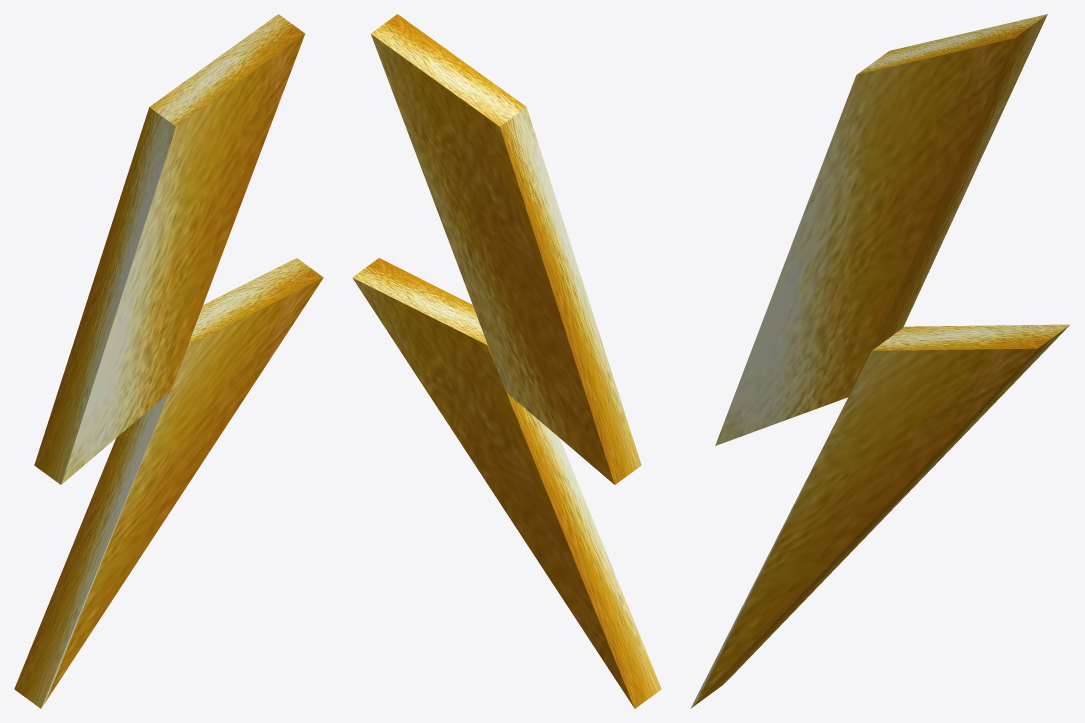
Rendered from Rayo.fbx.
3 renders of one model, left to right at view 1: azimuth 30°, elevation 25°; view 2: azimuth 150°, elevation 25°; view 3: azimuth 330°, elevation 25°, orthographic. The views are drawn at different scales.
Visible parts, largest first — view 1: Cube, Cube.001; view 2: Cube, Cube.001; view 3: Cube, Cube.001.
Boxes of the visible parts, left/top/right/bottom form: Cube: left=34, top=14, right=304, bottom=484; Cube.001: left=14, top=258, right=323, bottom=708; Cube: left=371, top=14, right=641, bottom=484; Cube.001: left=352, top=258, right=661, bottom=708; Cube: left=715, top=14, right=1047, bottom=445; Cube.001: left=690, top=324, right=1069, bottom=708.
Bounding box in the file's own units: 442 × 912 × 72.69.
Materials: 2 (2 with a texture image).
